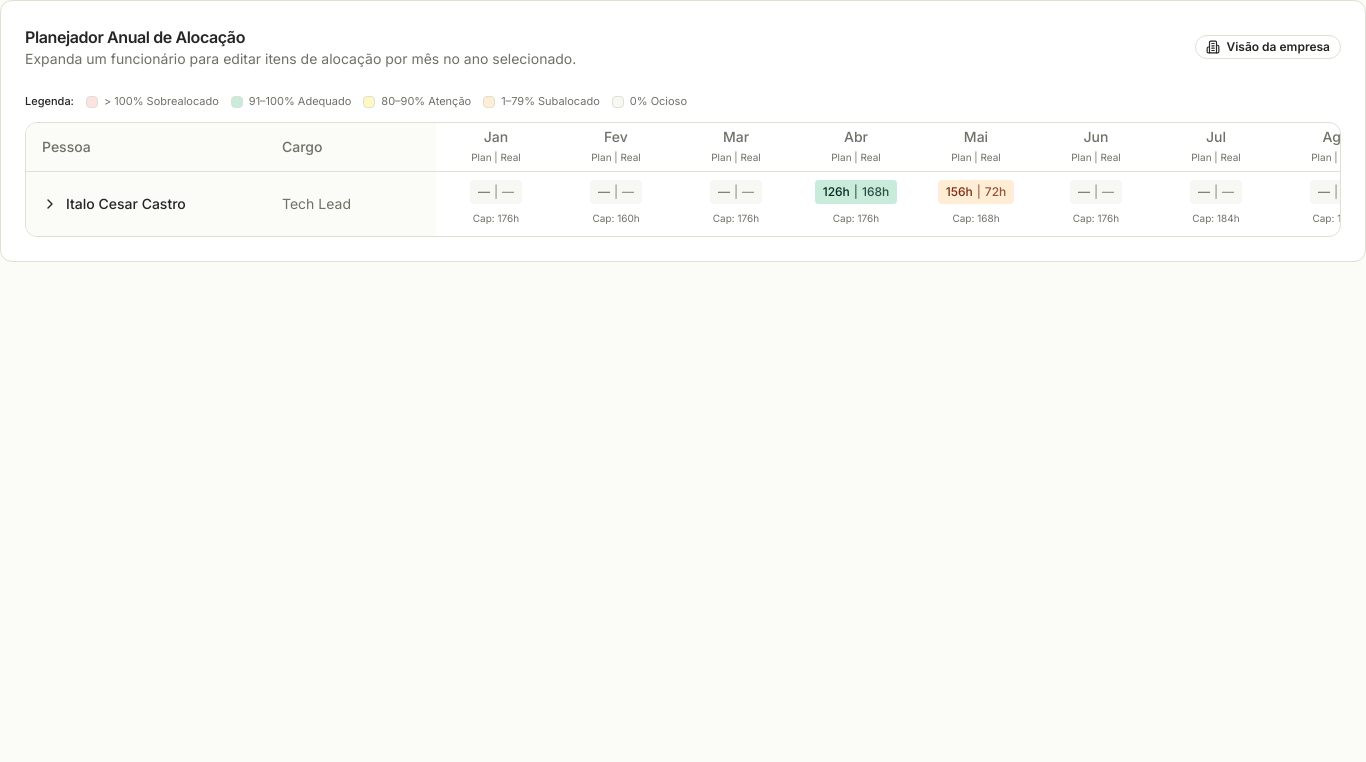
Scenario: AllocationOverview › usa o resumo agregado por funcionario e carrega detalhes sob demanda
Expected: the text "156h" is shown, [946,184,973,200]
Expected: the text "72h" is shown, [985,184,1006,200]
Click the text "Italo Cesar Castro". click: [126, 204]
box: [66,194,186,214]
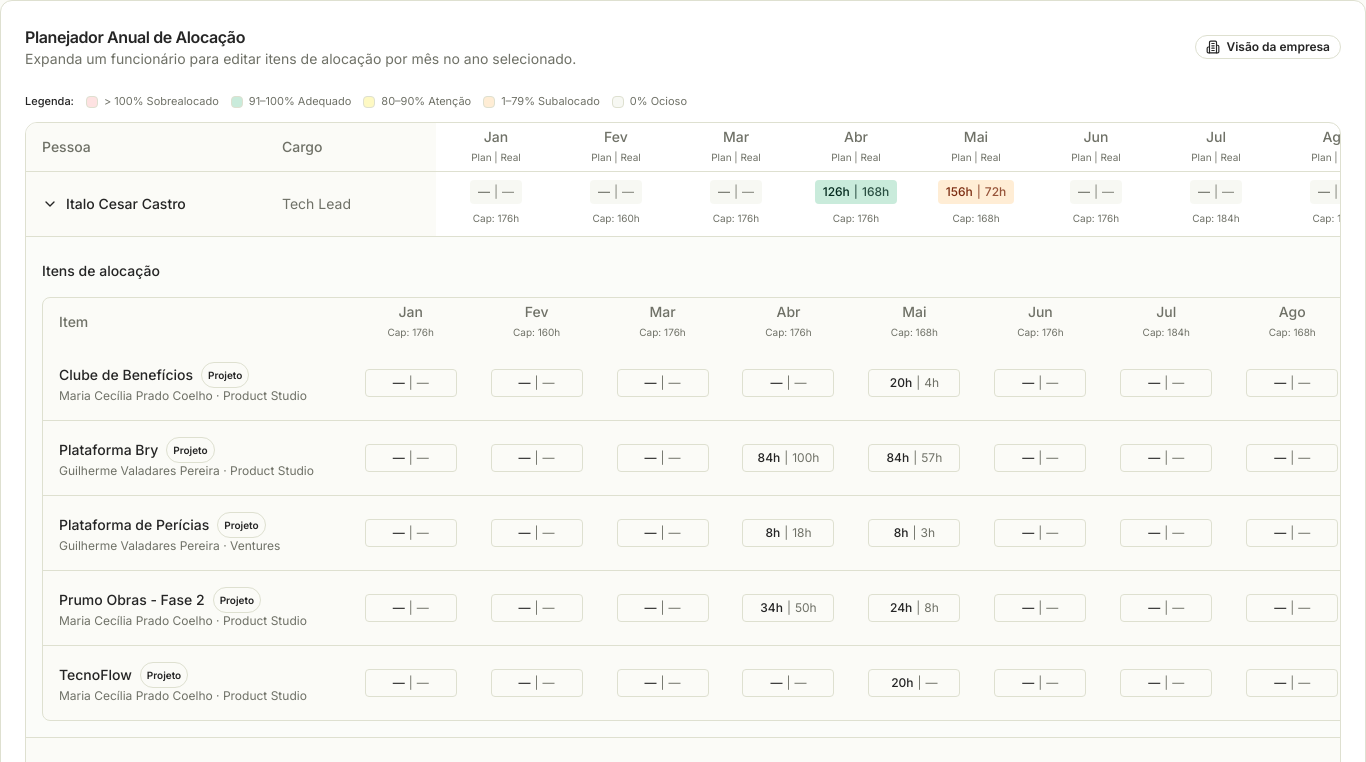
Expected: the text "4h" is shown, [924,375,939,391]
Expected: the text "57h" is shown, [921,450,942,466]
Expected: the text "3h" is shown, [920,525,935,541]
